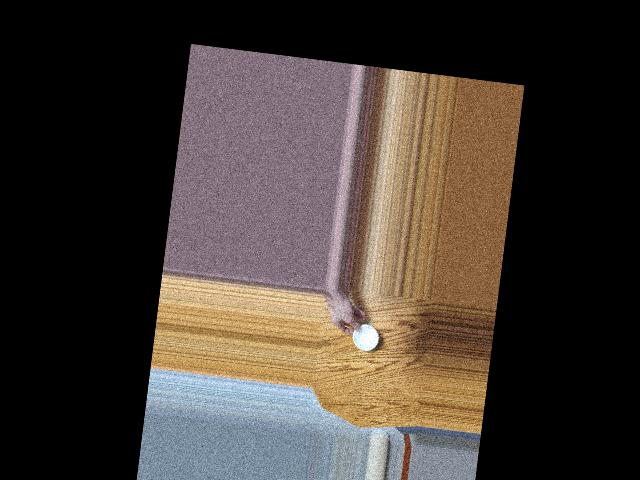cotage: (348, 320, 381, 352)
